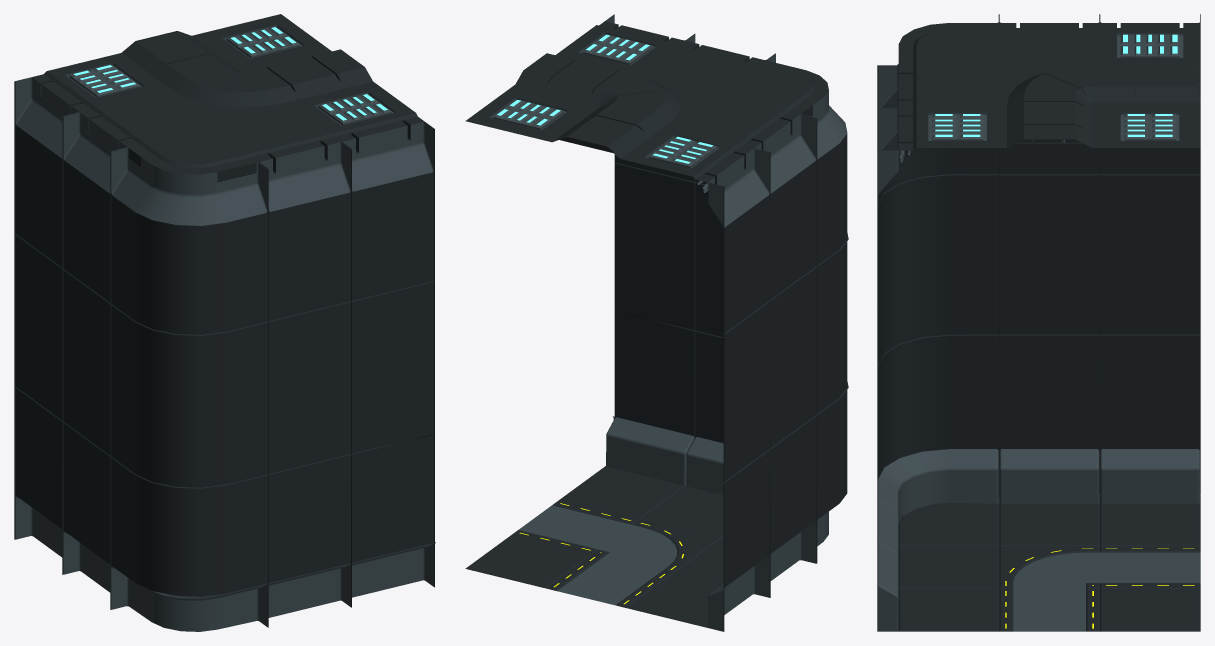
Rendered from hallC90.fbx.
3 renders of one model, left to right at view 1: azimuth 30°, elevation 25°; view 2: azimuth 150°, elevation 25°; view 3: azimuth 270°, elevation 25°, orthographic. The views are drawn at different scales.
Visible parts, largest first — view 1: hallC90; view 2: hallC90; view 3: hallC90.
Boxes of the visible parts, box(x1,y1,x2,y2) form: hallC90: box(14, 14, 435, 631); hallC90: box(465, 14, 848, 631); hallC90: box(877, 14, 1200, 631).
Size of what is drawn, in the model's own units: 6.47 by 6.42 by 10.81.
